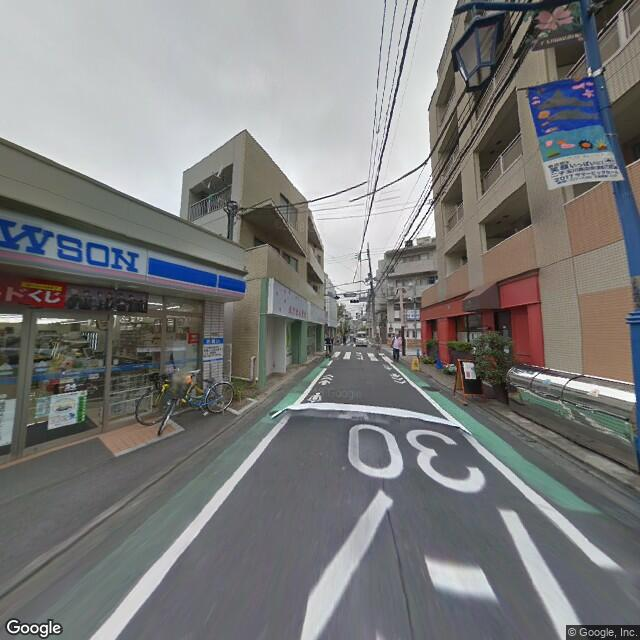lawson: (1, 205, 248, 301)
